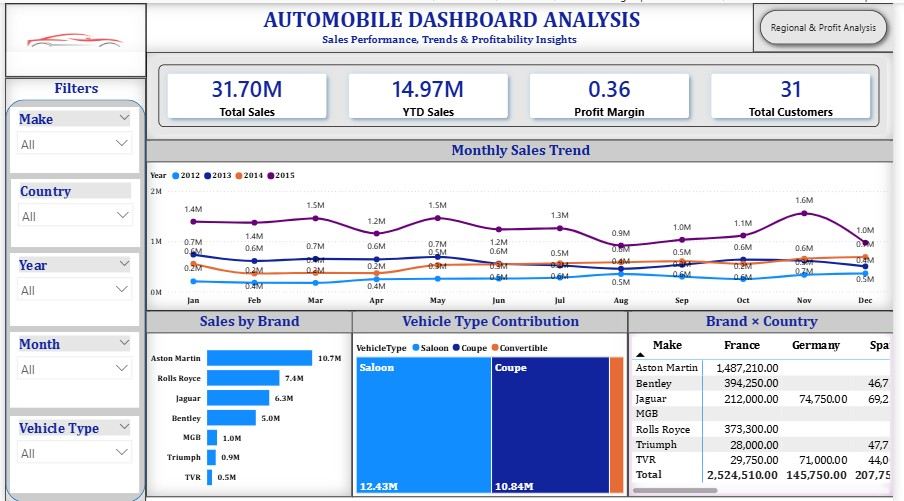

The dashboard page shown, as its layout file describes it:
{"tool":"powerbi","page":{"name":"Sales Overview & Trends","canvas":[1280,720],"ordinal":0},"visuals":[{"type":"textbox","box":[0,0,1280.2,70.6],"z":0},{"type":"shape","title":"Filters","box":[0,108,203,612],"z":1000},{"type":"slicer","fields":{"Values":["All Automobile.Make"]},"box":[7.2,149.8,185.8,95],"z":2000},{"type":"slicer","fields":{"Values":["All Automobile.CountryName"]},"box":[8.6,253.4,185.8,97.9],"z":3000},{"type":"slicer","fields":{"Values":["DateTable.Year"]},"box":[7.2,360,185.8,105.1],"z":4000},{"type":"slicer","fields":{"Values":["DateTable.Month"]},"box":[7.2,473.8,185.8,109.4],"z":5000},{"type":"slicer","fields":{"Values":["All Automobile.VehicleType"]},"box":[7.2,594.7,185.8,110.9],"z":6000},{"type":"cardVisual","fields":{"Data":["All Automobile.Total Sales","All Automobile.YTD Sales","All Automobile.Profit Margin","All Automobile.Total Customers"]},"box":[203,70.6,1077.1,126.7],"z":7000},{"type":"lineChart","title":"Monthly Sales Trend","fields":{"Category":["DateTable.Month"],"Y":["All Automobile.Total Sales"],"Series":["DateTable.Year"]},"box":[203,197.3,1077.1,246.2],"z":8000},{"type":"clusteredBarChart","title":"Sales by Brand","fields":{"Category":["All Automobile.Make"],"Y":["All Automobile.Total Sales"]},"box":[203,443.5,296.6,267.8],"z":9000},{"type":"treemap","title":"Vehicle Type Contribution","fields":{"Group":["All Automobile.VehicleType"],"Values":["All Automobile.Total Sales"]},"box":[499.7,443.5,397.4,267.8],"z":10000},{"type":"pivotTable","title":"Brand × Country","fields":{"Rows":["All Automobile.Make"],"Columns":["All Automobile.CountryName"],"Values":["All Automobile.Total Sales"]},"box":[897.1,443.5,383,267.8],"z":11000},{"type":"bookmarkNavigator","box":[0,0,203,86.4],"z":12000},{"type":"pageNavigator","box":[1077.1,0,203,70.6],"z":13000},{"type":"image","box":[0,0,204.5,107],"z":14000}]}

Visuals, with their boxes in screenshot pixels (x1, y1, x2, y2), scaled from the page's 1280x720 canvas onto the 904x501 screenshot:
textbox: 0:0:903:49
"Filters" shape: 0:75:143:500
slicer - All Automobile.Make: 5:104:136:170
slicer - All Automobile.CountryName: 6:176:137:244
slicer - DateTable.Year: 5:250:136:324
slicer - DateTable.Month: 5:330:136:406
slicer - All Automobile.VehicleType: 5:414:136:491
cardVisual - All Automobile.Total Sales x All Automobile.YTD Sales: 143:49:903:137
"Monthly Sales Trend" lineChart: 143:137:903:309
"Sales by Brand" clusteredBarChart: 143:309:353:495
"Vehicle Type Contribution" treemap: 353:309:634:495
"Brand × Country" pivotTable: 634:309:903:495
bookmarkNavigator: 0:0:143:60
pageNavigator: 761:0:903:49
image: 0:0:144:74
